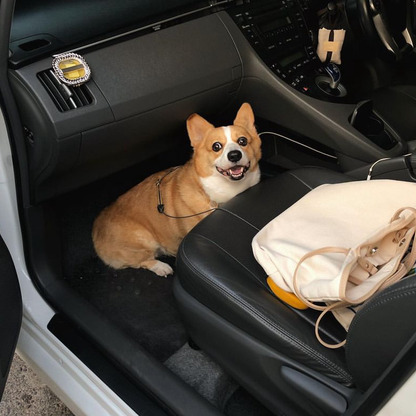Corgi: (72, 98, 293, 265)
